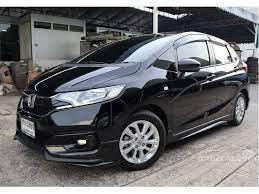Hatchback: (9, 23, 253, 175)
